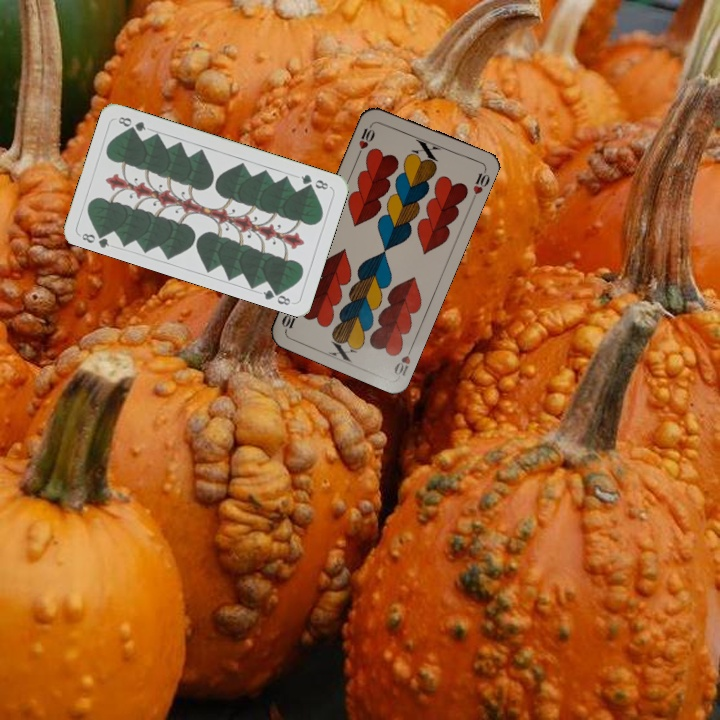G8: (78, 227, 112, 250), (297, 170, 331, 192)
H10: (390, 341, 416, 378), (354, 119, 377, 158)
